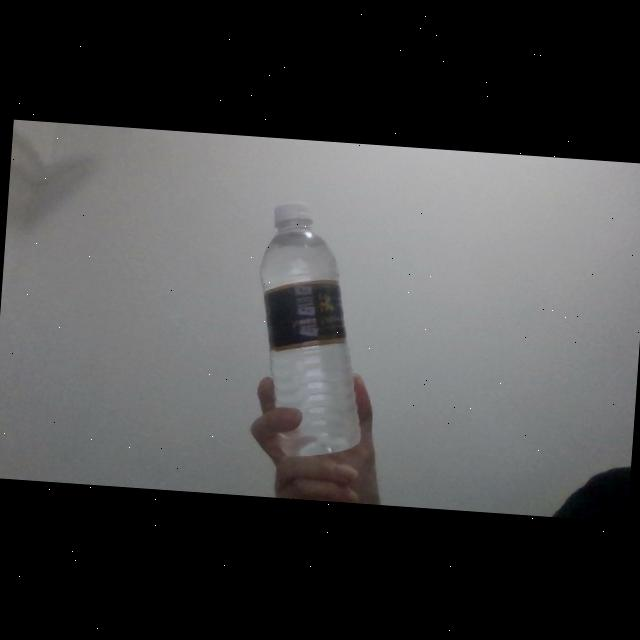trash: (245, 198, 378, 463)
